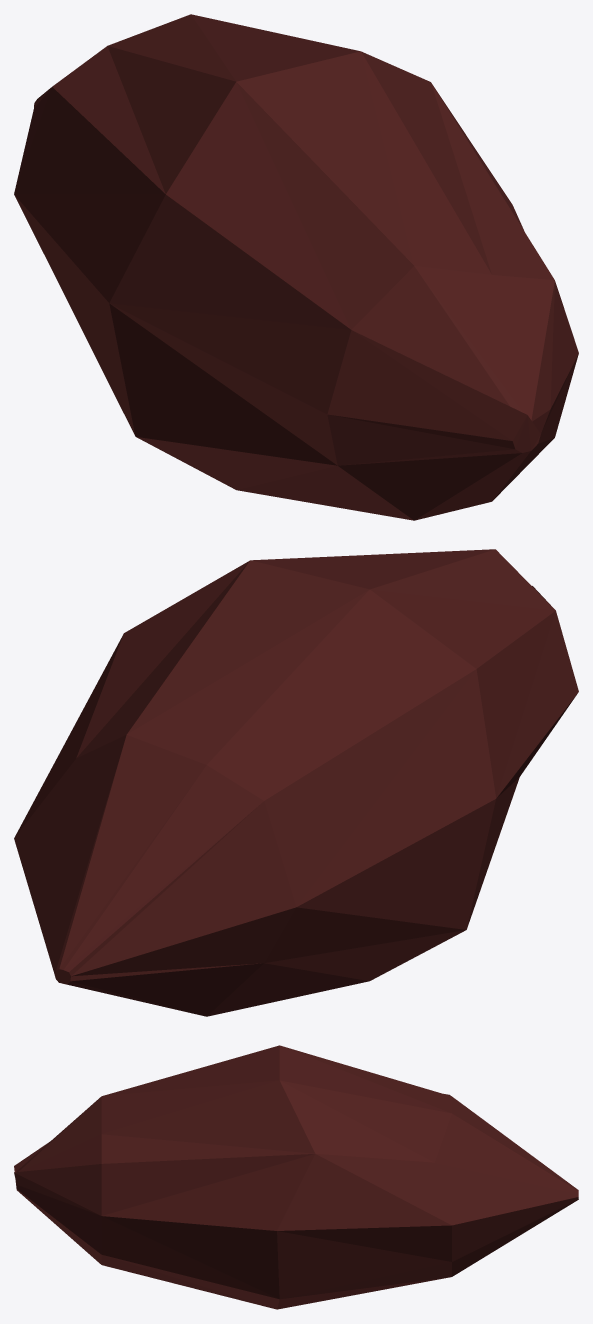
Rendered from SweetPotato2.fbx.
The picture shows the model from 3 angles, top to bottom: view 1: azimuth 30°, elevation 25°; view 2: azimuth 150°, elevation 25°; view 3: azimuth 270°, elevation 25°; orthographic projection. The views are drawn at different scales.
Visible parts, largest first — view 1: Cylinder; view 2: Cylinder; view 3: Cylinder.
Part boxes in pixels (box(x1,y1,x2,y2)): Cylinder: box(14, 14, 578, 520); Cylinder: box(14, 549, 578, 1016); Cylinder: box(14, 1045, 578, 1309).
Size of the model in its own units: 91.87 by 88.89 by 193.
